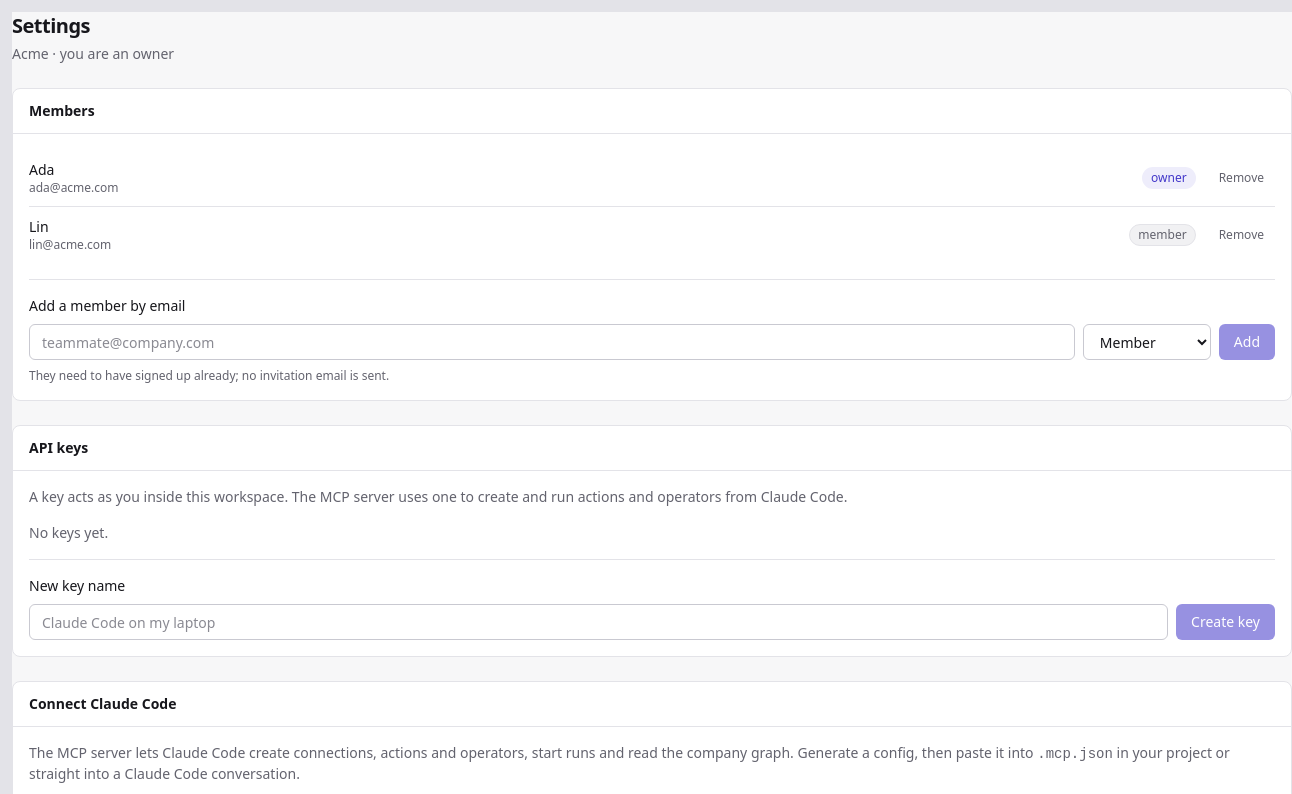
Test case: SettingsPage › lets owners add and remove members
Expected: the button with aria-label "Remove lin@acme.com" is shown, 1208,221 -> 1275,249
Type "new@acme.com" into the field labelled "Add a member by email" at (552, 342), box 29,324 -> 1075,360
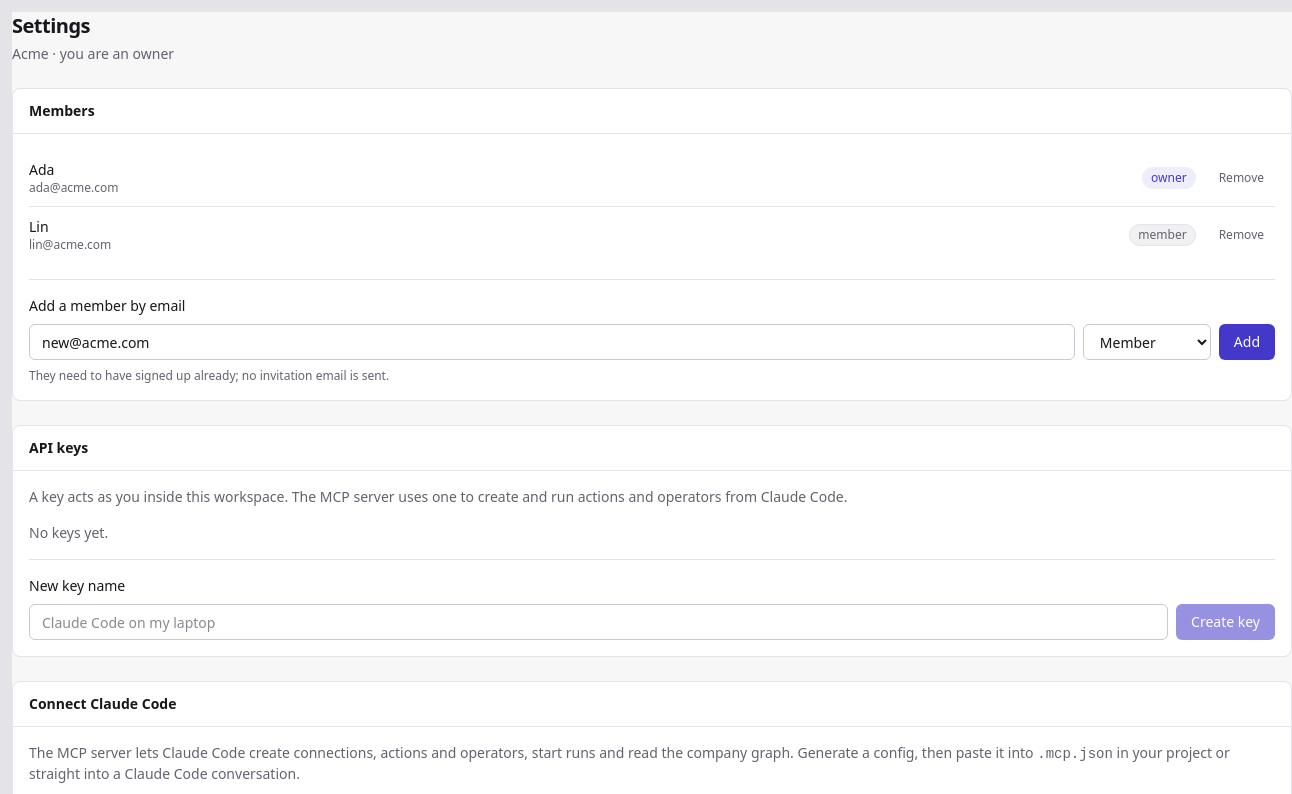
Click the button "Add" at (1247, 342), box 1219,324 -> 1275,360
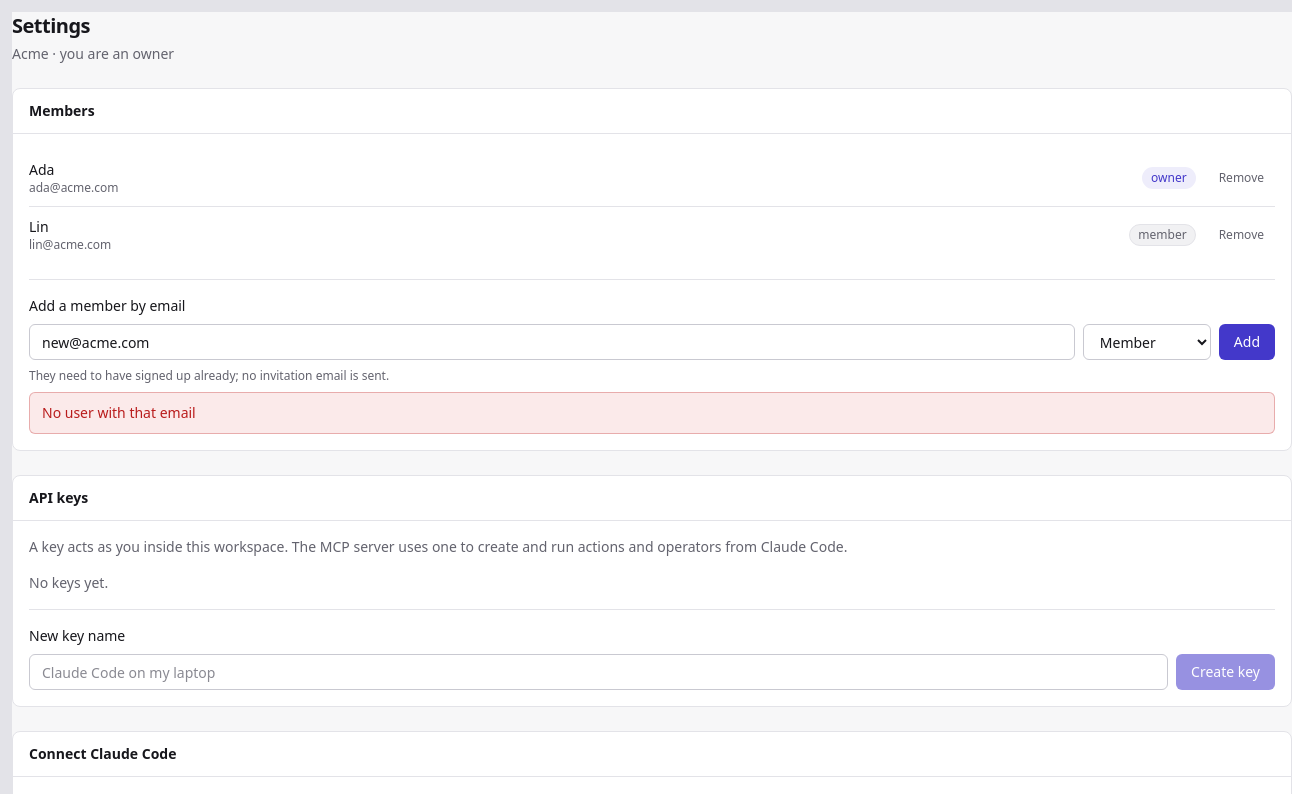
Result: the message reads "No user with that email" at 42,403 -> 196,422
